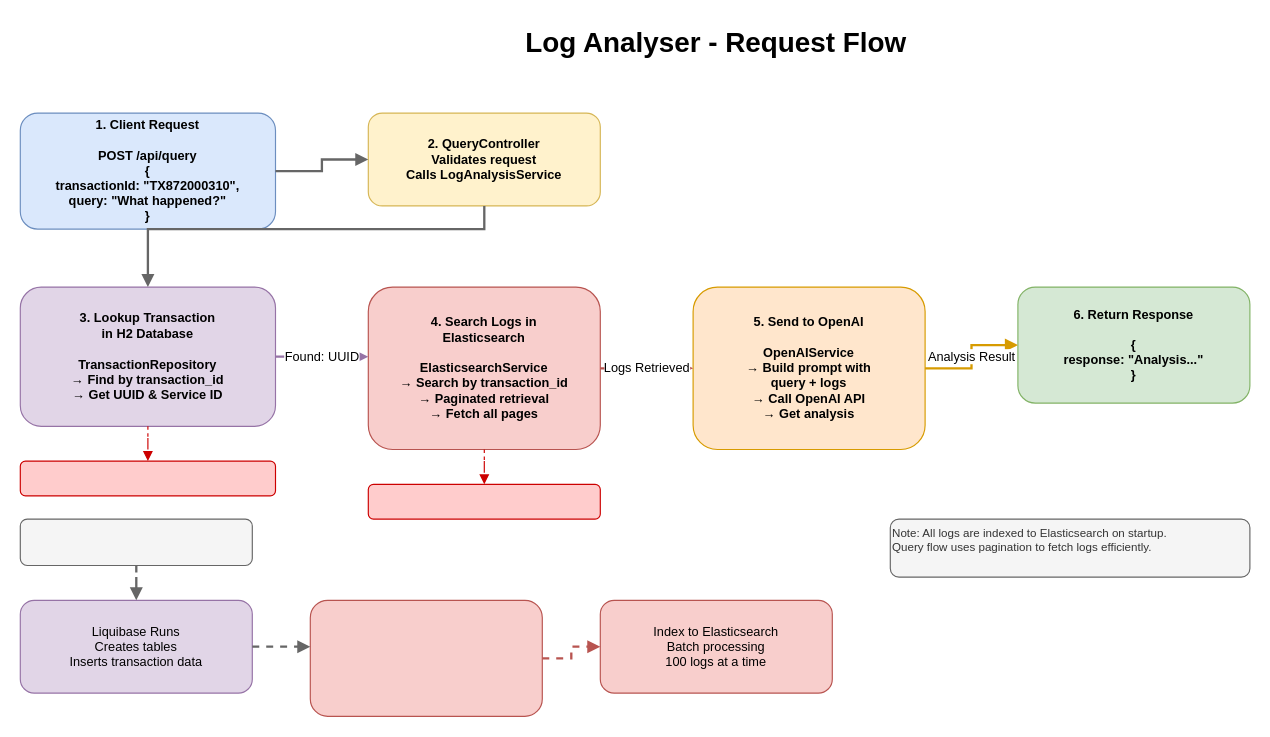
Image size: 1270x737. Some labels were removed from this diagram. The shapes that lost their labels are listed below. From the top down, each one's centre as x and y in pixels, then its label:
point 147,478: Error: Transaction not found
point 483,501: Error: No logs found
point 135,542: Application Startup
point 425,657: LogIndexingService Reads log file Parses log lines Extracts fields
